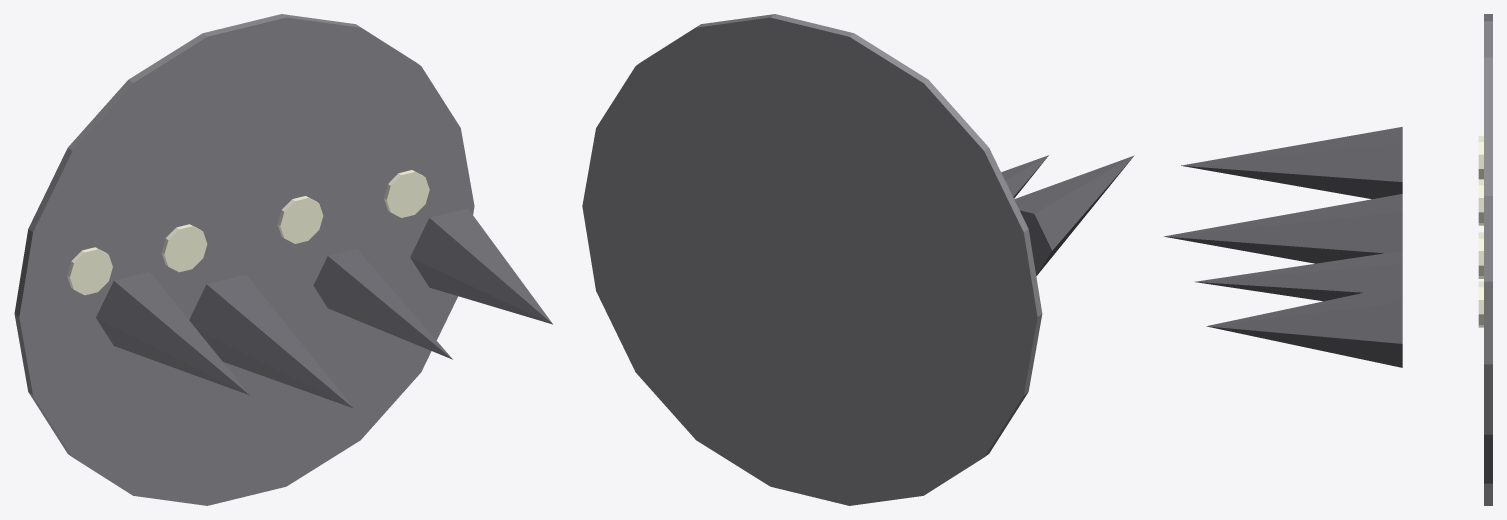
Rendered from 04_event_hazard_cluster.glb.
3 renders of one model, left to right at view 1: azimuth 30°, elevation 25°; view 2: azimuth 150°, elevation 25°; view 3: azimuth 270°, elevation 25°, orthographic. The views are drawn at different scales.
Visible parts, largest first — view 1: scatter_base, basalt_shard_1, basalt_shard_0, basalt_shard_3, basalt_shard_2, lava_glow_3, lava_glow_0, lava_glow_1, lava_glow_2; view 2: scatter_base, basalt_shard_0, basalt_shard_1; view 3: basalt_shard_1, basalt_shard_0, basalt_shard_3, basalt_shard_2, scatter_base.
Part boxes in pixels (box(x1,y1,x2,y2)): scatter_base: box(14, 14, 474, 505); basalt_shard_1: box(189, 274, 353, 408); basalt_shard_0: box(96, 272, 249, 395); basalt_shard_3: box(410, 208, 552, 324); basalt_shard_2: box(313, 249, 452, 359); lava_glow_3: box(384, 170, 429, 217); lava_glow_0: box(67, 247, 112, 295); lava_glow_1: box(161, 224, 207, 272); lava_glow_2: box(277, 196, 323, 243); scatter_base: box(582, 14, 1042, 505); basalt_shard_0: box(1014, 155, 1134, 275); basalt_shard_1: box(1001, 155, 1048, 198); basalt_shard_1: box(1163, 194, 1402, 263); basalt_shard_0: box(1181, 127, 1402, 199); basalt_shard_3: box(1206, 284, 1402, 367); basalt_shard_2: box(1194, 250, 1402, 301); scatter_base: box(1484, 14, 1492, 505).
Bounding box in the file's own units: 1.9 × 1.87 × 1.27.
